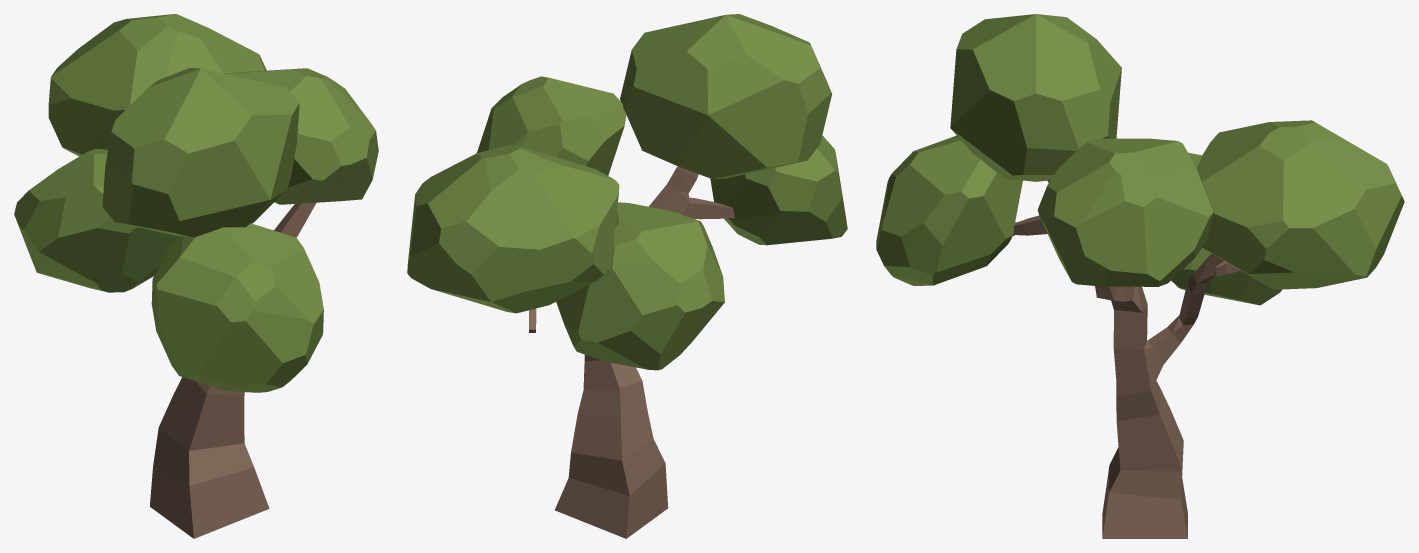
Rendered from Tree_1.fbx.
3 views of the same model, side by side, from view 1: azimuth 30°, elevation 25°; view 2: azimuth 150°, elevation 25°; view 3: azimuth 270°, elevation 25° (orthographic). The views are drawn at different scales.
Visible parts, largest first — view 1: Leaf_02.002, Leaf_02.003, Leaf_02, Wood_02, Leaf_02.001, Leaf_02.004; view 2: Leaf_02, Leaf_02.002, Leaf_02.001, Wood_02, Leaf_02.004, Leaf_02.003; view 3: Leaf_02, Leaf_02.002, Leaf_02.004, Wood_02, Leaf_02.003, Leaf_02.001.
Part boxes in pixels (x1,y1,x2,y2): Leaf_02.002: (102, 68, 299, 237); Leaf_02.003: (151, 223, 323, 392); Leaf_02: (48, 14, 266, 156); Wood_02: (149, 202, 316, 538); Leaf_02.001: (14, 149, 180, 292); Leaf_02.004: (225, 68, 378, 204); Leaf_02: (407, 145, 619, 313); Leaf_02.002: (620, 14, 831, 179); Leaf_02.001: (556, 202, 724, 370); Wood_02: (529, 166, 734, 538); Leaf_02.004: (477, 76, 626, 175); Leaf_02.003: (710, 135, 847, 245); Leaf_02: (1197, 120, 1404, 289); Leaf_02.002: (950, 14, 1121, 181); Leaf_02.004: (1037, 138, 1214, 286); Wood_02: (1012, 179, 1240, 538); Leaf_02.003: (876, 135, 1022, 285); Leaf_02.001: (1171, 152, 1282, 305).
Bounding box in the file's own units: 217 × 347 × 341.
